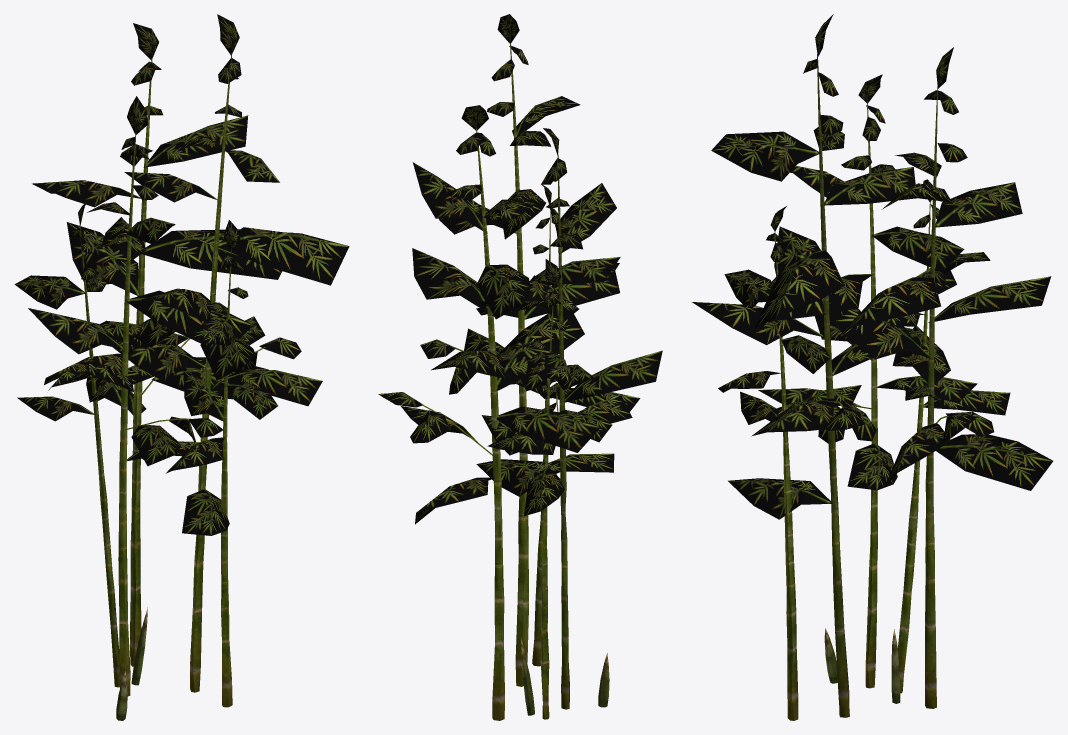
File: bg_anh_tree_bamboo03_sm_ksy.FBX
3 views of the same model, side by side, from view 1: azimuth 30°, elevation 25°; view 2: azimuth 150°, elevation 25°; view 3: azimuth 270°, elevation 25° (orthographic). The views are drawn at different scales.
Visible parts, largest first — view 1: bg_anh_tree_bamboo03_sm_ksy; view 2: bg_anh_tree_bamboo03_sm_ksy; view 3: bg_anh_tree_bamboo03_sm_ksy.
Part boxes in pixels (bbox=[...]): bg_anh_tree_bamboo03_sm_ksy: bbox=[14, 14, 349, 720]; bg_anh_tree_bamboo03_sm_ksy: bbox=[378, 14, 662, 720]; bg_anh_tree_bamboo03_sm_ksy: bbox=[692, 14, 1053, 720].
Size of the model in its own units: 301 by 762 by 349.
